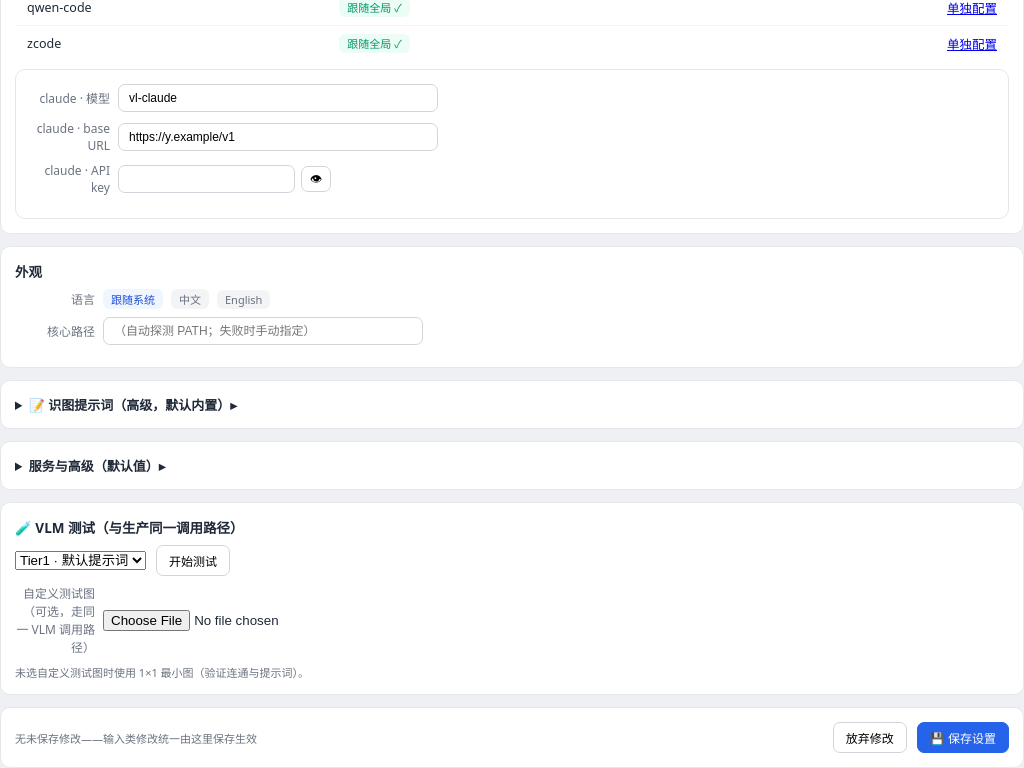
it: SettingsPage save semantics (G11) › four-mode VLM test: tier2c maps to mode tier2 + question + custom_prompt
The image size is (1024, 768).
(page scrolled)
Note: tier2 + 自选提示词
Select "Tier2 · 自选提示词" in the dropdown at (80, 560), box [15,551,146,570]
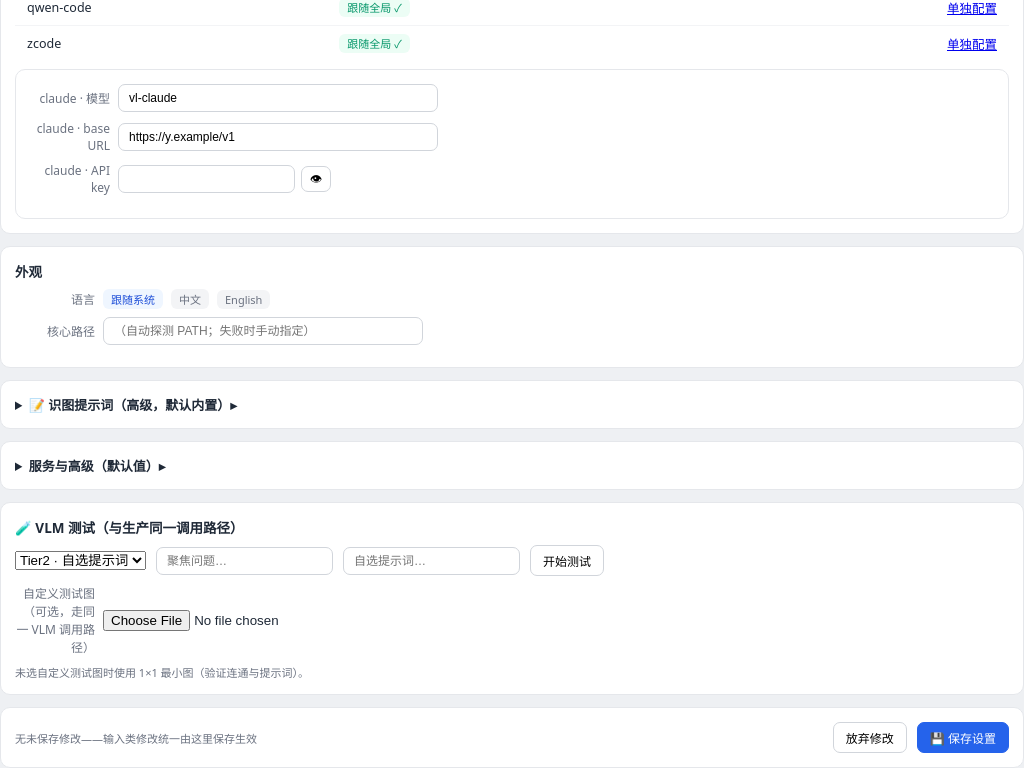
Type "图里几个字" into the field with placeholder "聚焦问题…" at (244, 560), box [156,546,333,574]
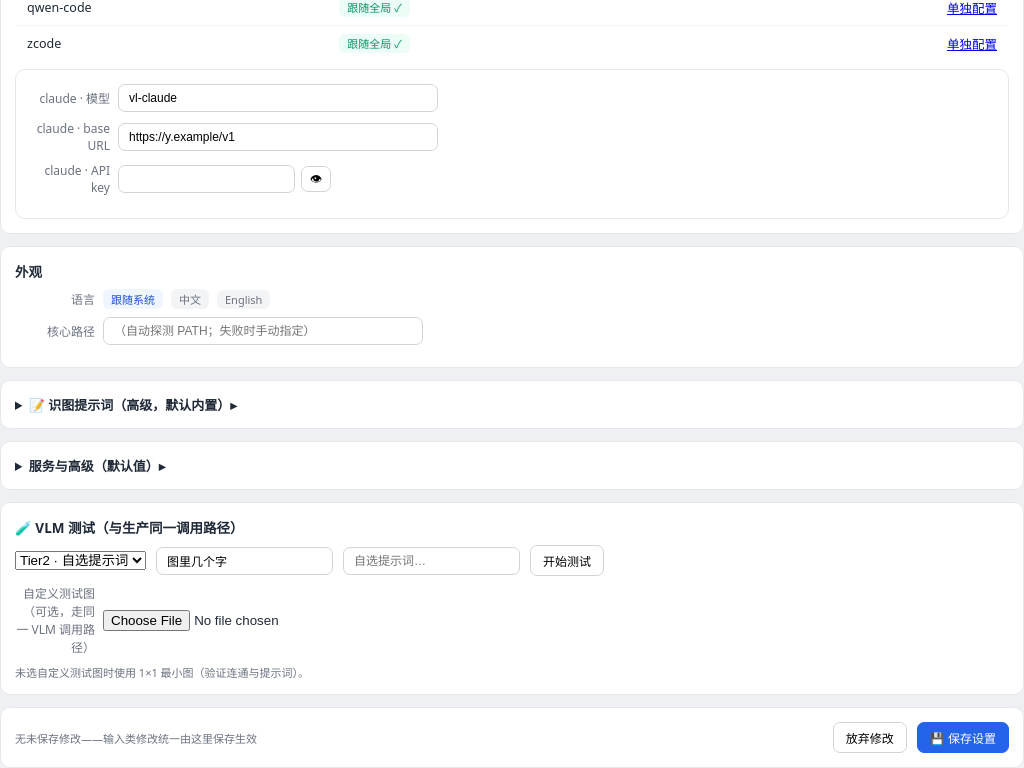
Type "我的自选" into the field with placeholder "自选提示词…" at (432, 560), box [343,546,520,574]
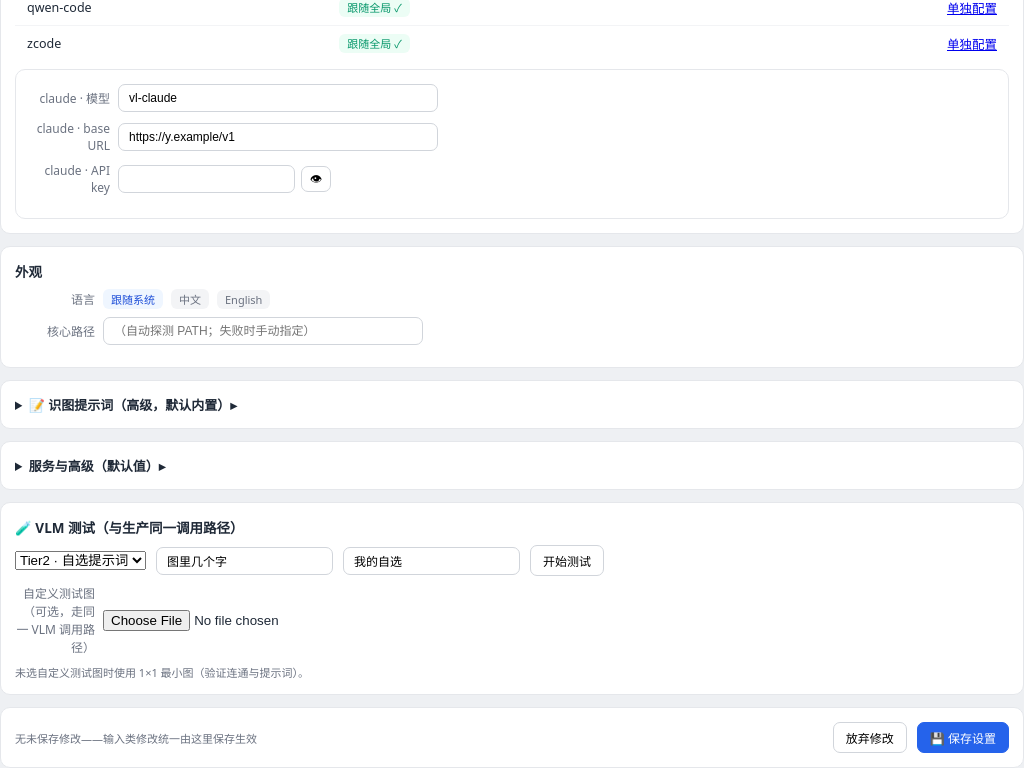
Click the button "开始测试" at (567, 560), box [530,545,604,576]
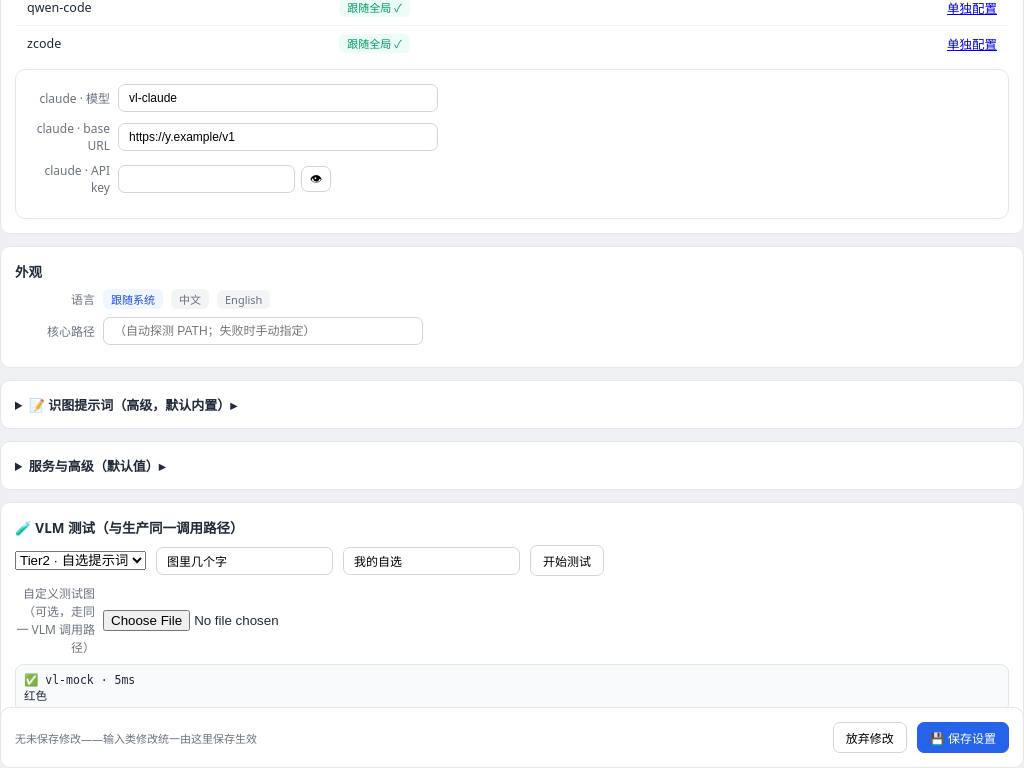
Expected: the text "✅ vl-mock · 5ms 红色" is shown, [15,664,1009,712]
